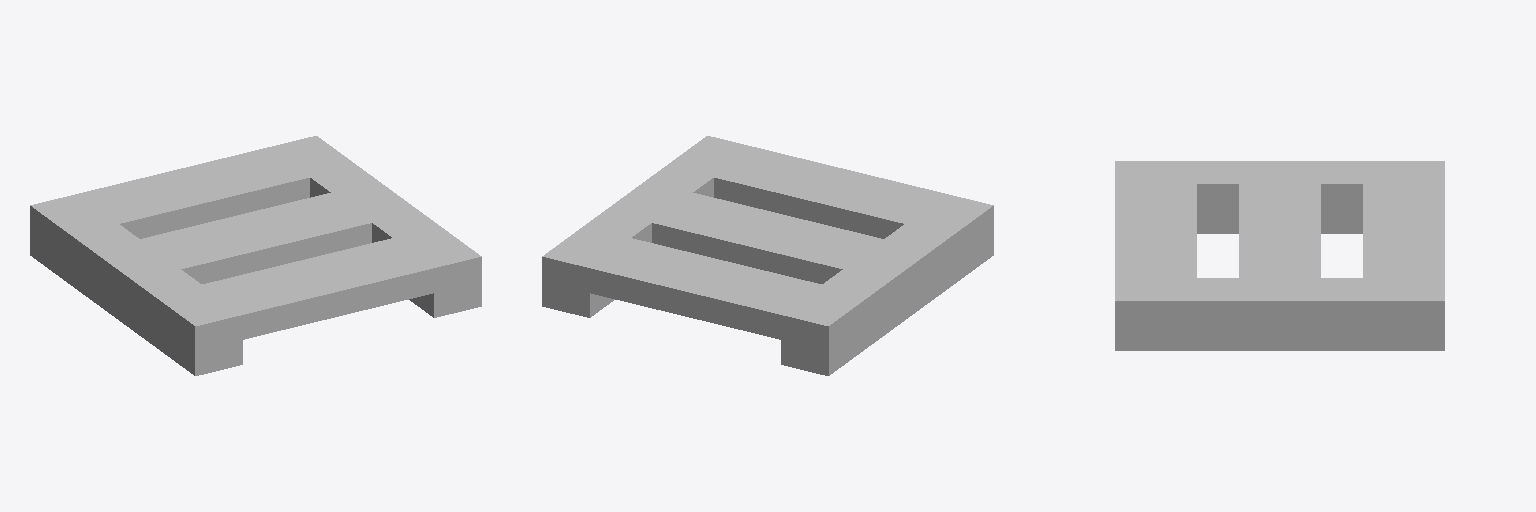
File: Pallet.obj
3 renders of one model, left to right at view 1: azimuth 30°, elevation 25°; view 2: azimuth 150°, elevation 25°; view 3: azimuth 270°, elevation 25°, orthographic.
Parts seen in each view (by area): view 1: Pallet; view 2: Pallet; view 3: Pallet.
Part boxes in pixels (x1,y1,x2,y2): Pallet: (30,136,481,375); Pallet: (542,136,993,375); Pallet: (1115,161,1444,350).
Size of the model in its own units: 1.5 by 0.25 by 1.5.